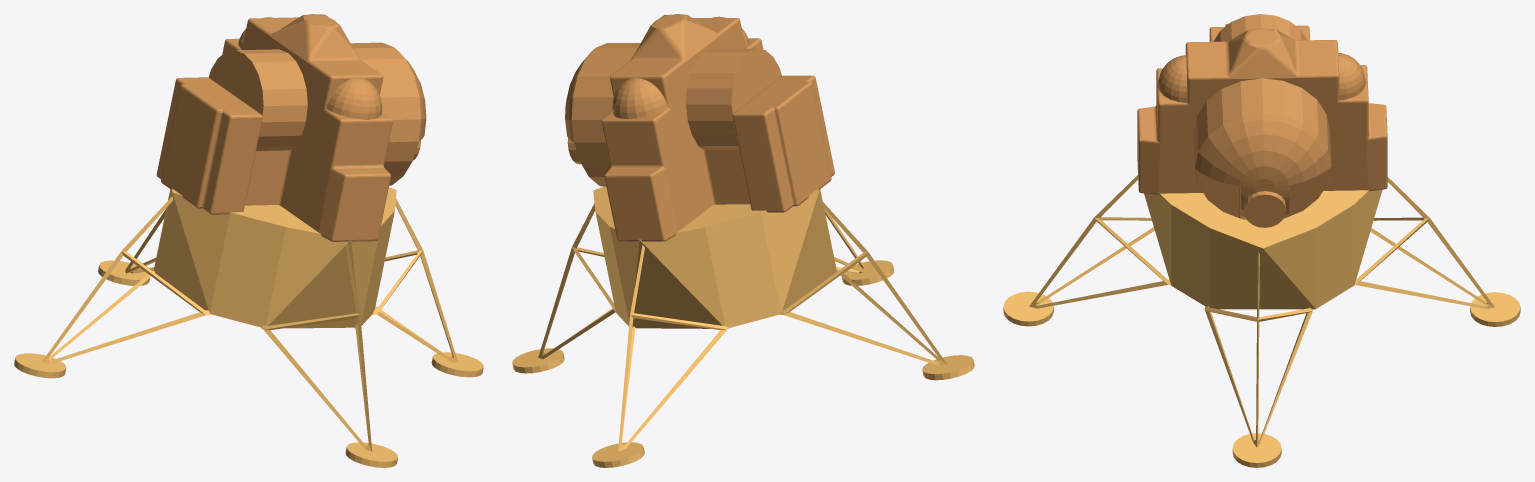
File: LEM.glb
3 renders of one model, left to right at view 1: azimuth 30°, elevation 25°; view 2: azimuth 150°, elevation 25°; view 3: azimuth 270°, elevation 25°, orthographic. The views are drawn at different scales.
Visible parts, largest first — view 1: Cylinder.059; view 2: Cylinder.059; view 3: Cylinder.059.
Part boxes in pixels (x1,y1,x2,y2): Cylinder.059: (14, 14, 483, 467); Cylinder.059: (512, 14, 974, 467); Cylinder.059: (1003, 14, 1520, 467).
Size of the model in its own units: 1.15 by 0.9273 by 1.2.
2 materials, 1 textured.
